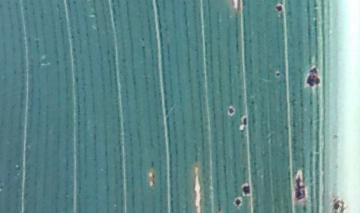tarspot: (295, 175, 306, 201), (306, 67, 320, 87), (332, 199, 345, 213), (242, 184, 251, 195), (275, 4, 283, 14), (241, 116, 248, 127), (227, 107, 235, 115), (275, 71, 282, 78), (235, 198, 241, 206)
